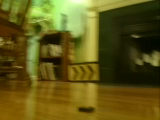right: (65, 63, 100, 81)
